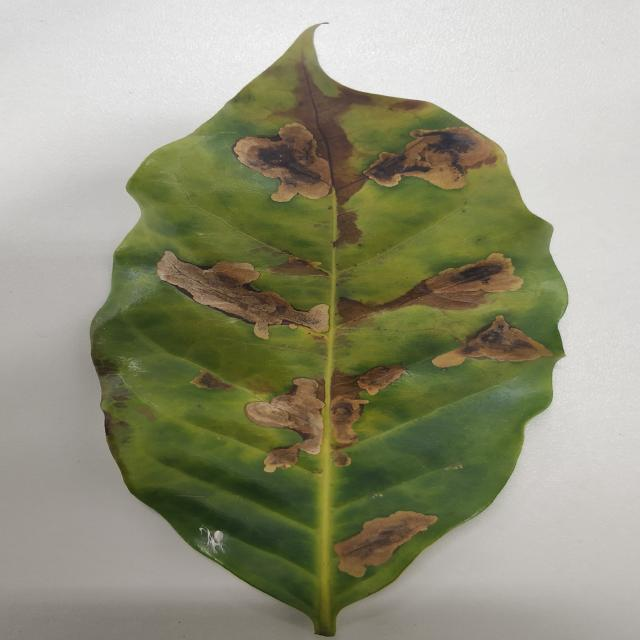Plaga-Minador: (88, 25, 569, 637)
